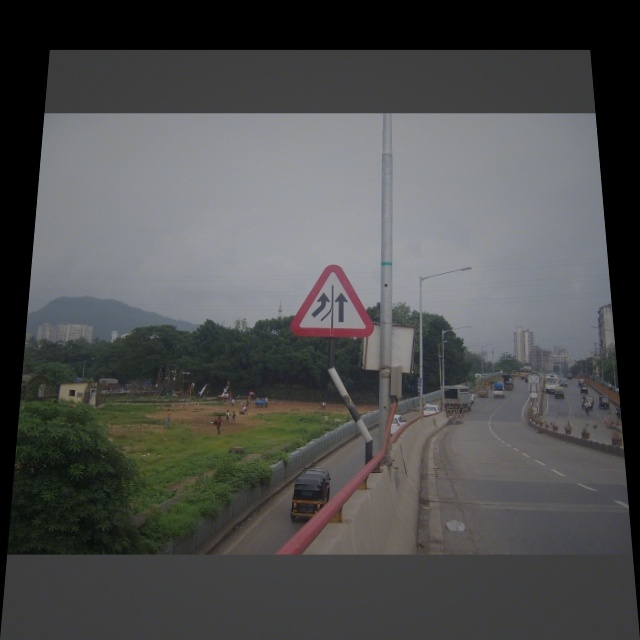Merge_Traffic_Ahead: (286, 256, 371, 344)
